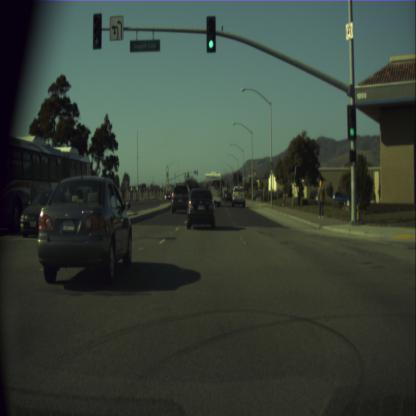Green: (206, 16, 215, 51), (347, 105, 356, 138)
GreenLeft: (94, 14, 100, 48)
